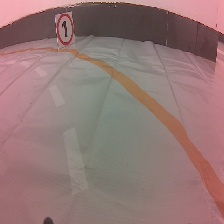limit: (53, 11, 78, 50)
